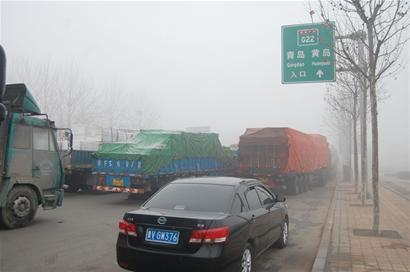bus: (96, 128, 238, 203), (1, 82, 73, 228), (53, 129, 162, 196), (238, 126, 339, 197)
car: (114, 172, 291, 271)
